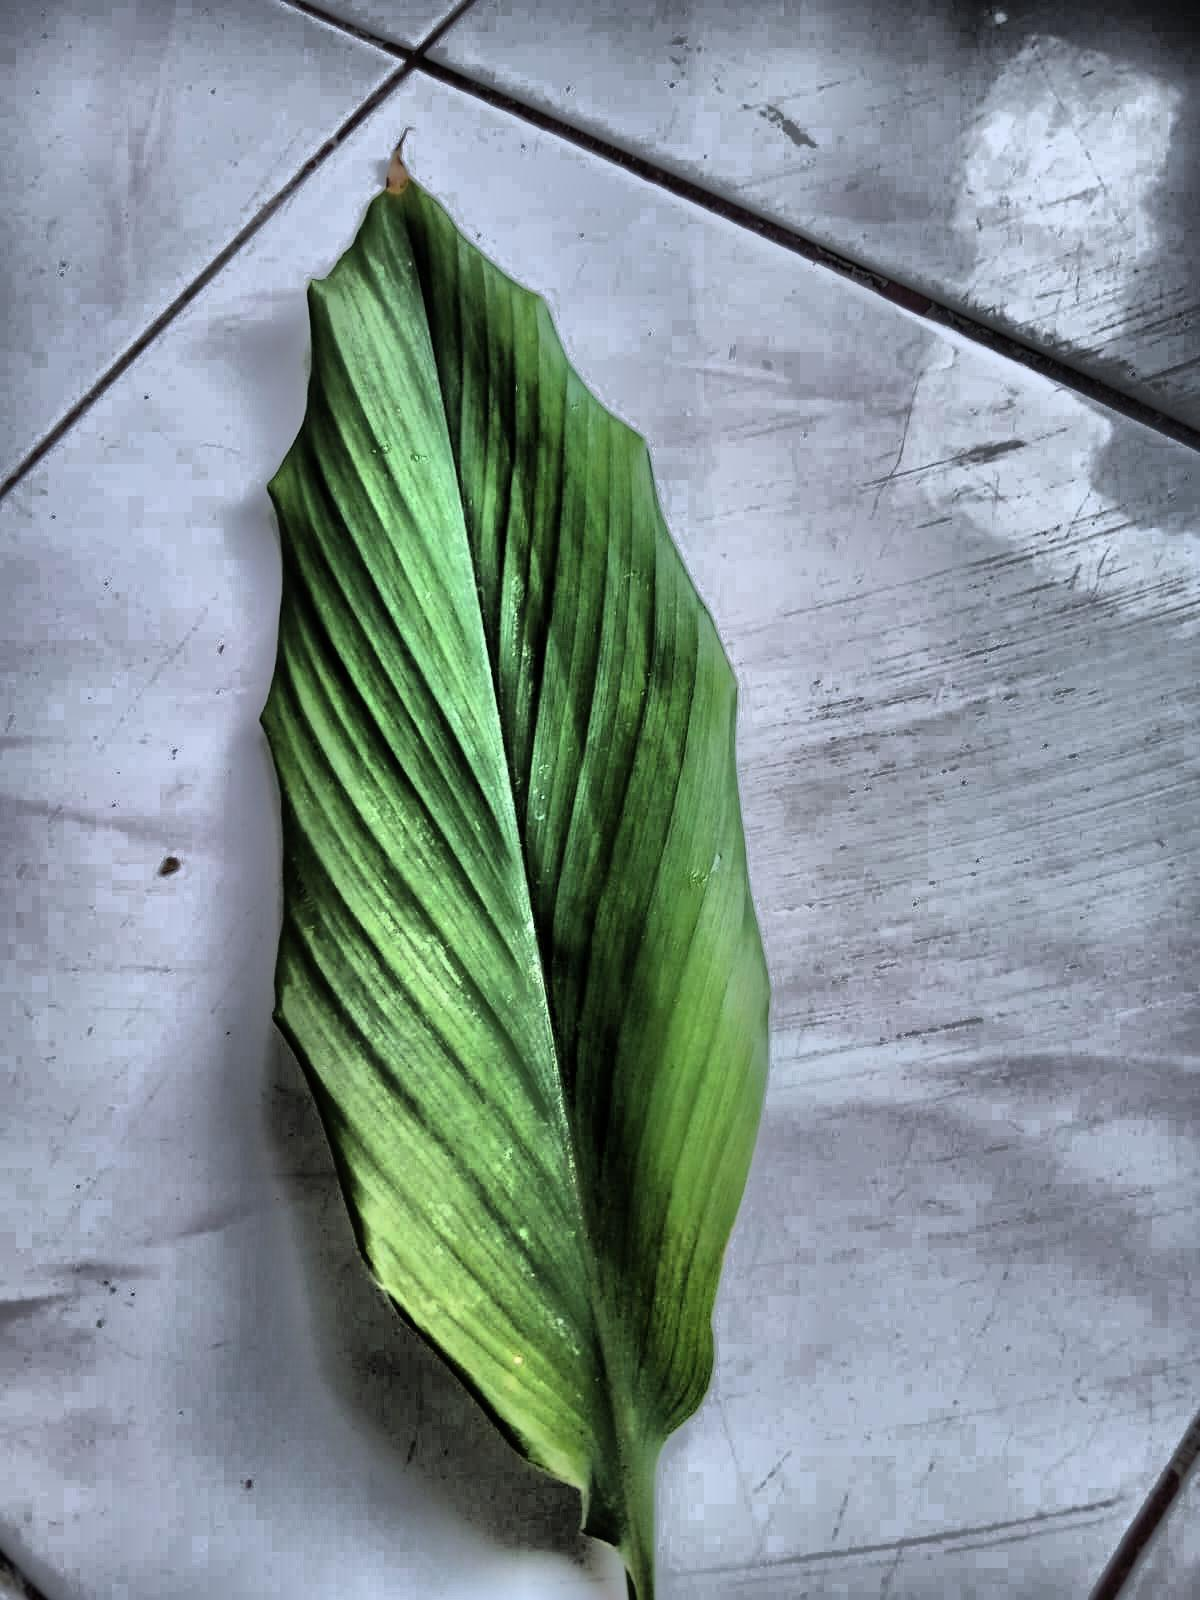daun kunyit: (263, 159, 769, 1599)
